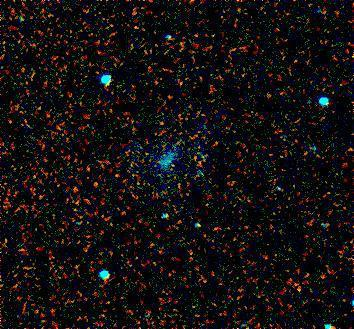star: (81, 169, 111, 199)
